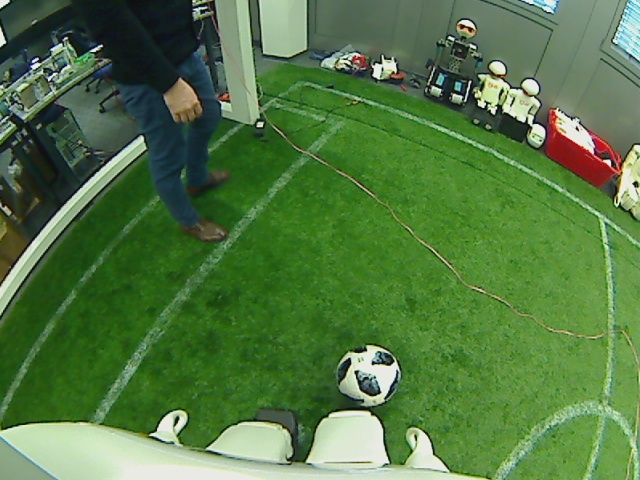ball: (332, 342, 401, 409)
